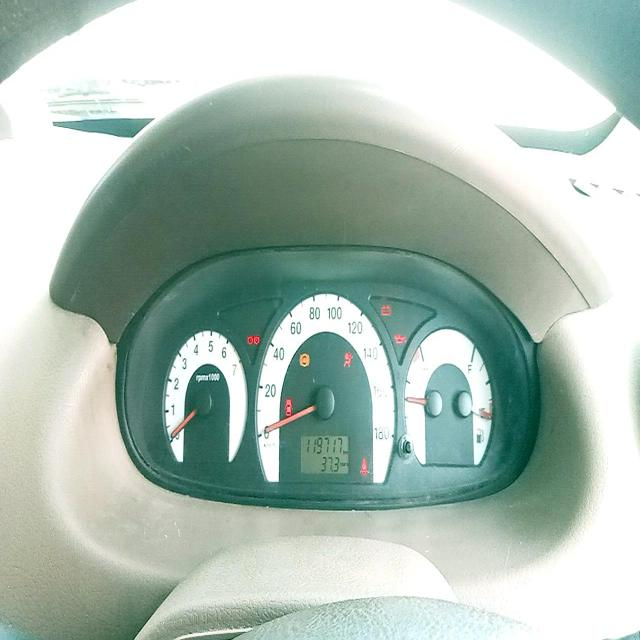odometer: (304, 434, 343, 455)
